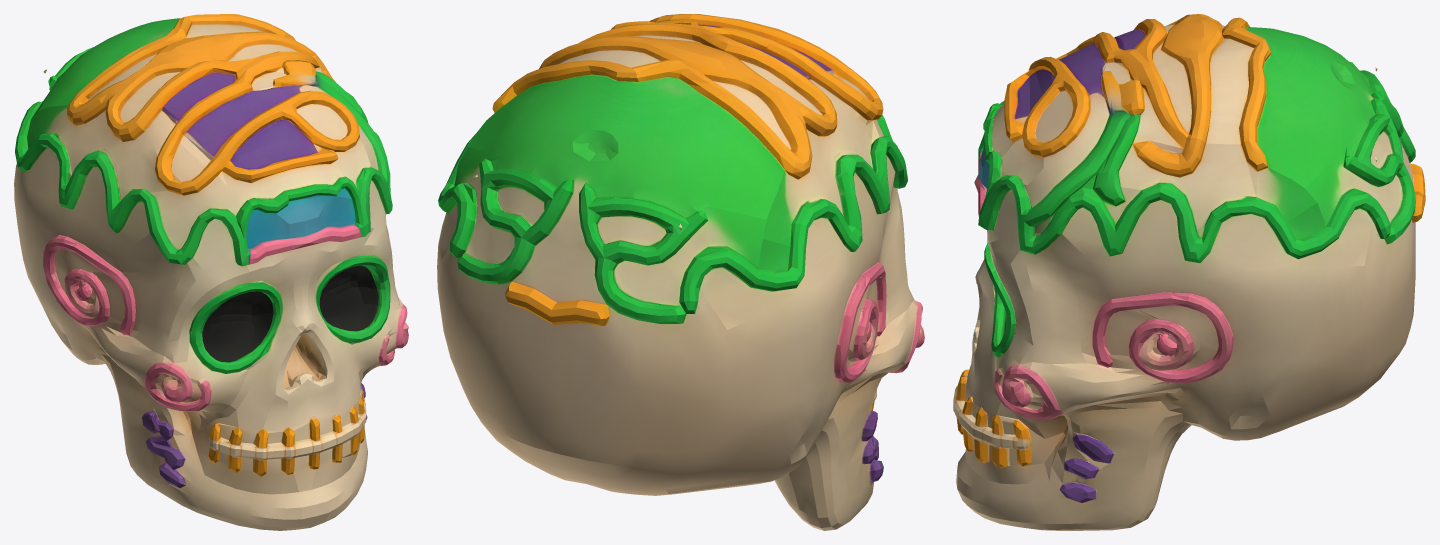
3 views of the same model, side by side, from view 1: azimuth 30°, elevation 25°; view 2: azimuth 150°, elevation 25°; view 3: azimuth 270°, elevation 25° (orthographic). The views are drawn at different scales.
Parts seen in each view (by area): view 1: base:Mesh; view 2: base:Mesh; view 3: base:Mesh.
Part boxes in pixels (bbox=[...]): base:Mesh: bbox=[14, 14, 408, 530]; base:Mesh: bbox=[437, 14, 924, 530]; base:Mesh: bbox=[953, 14, 1425, 530].
Bounding box in the file's own units: 1.46 × 1.9 × 1.74.
1 material, 1 textured.
